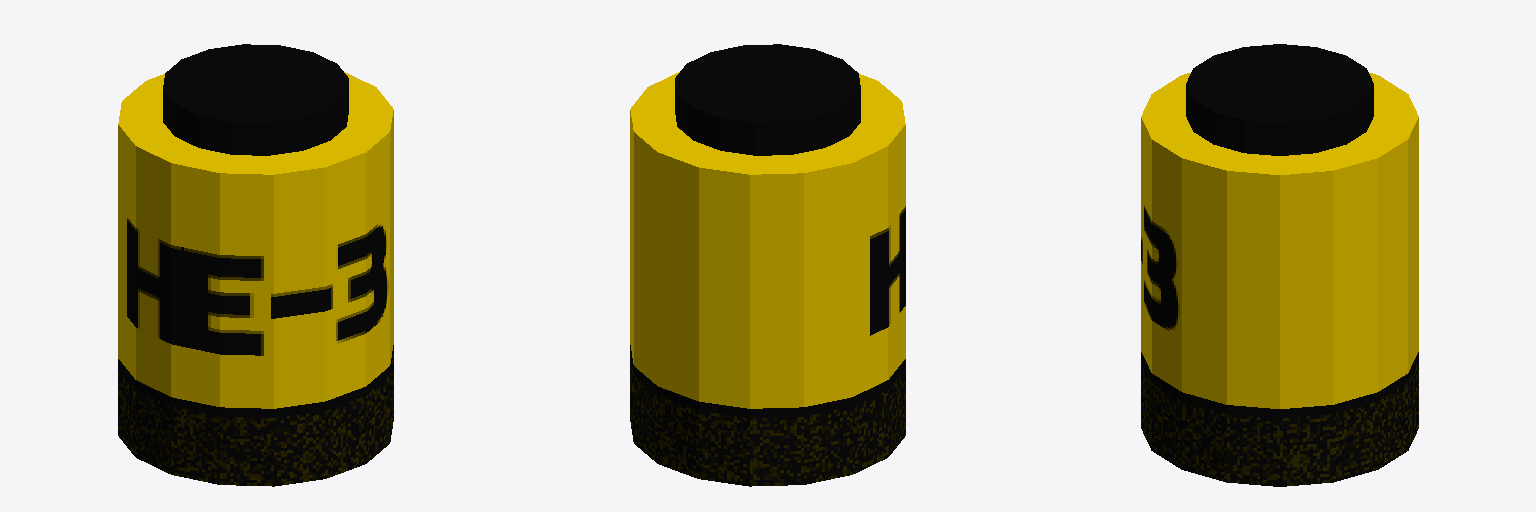
The picture shows the model from 3 angles: view 1: azimuth 30°, elevation 25°; view 2: azimuth 150°, elevation 25°; view 3: azimuth 270°, elevation 25°; orthographic projection.
Parts seen in each view (by area): view 1: deposit; view 2: deposit; view 3: deposit.
Part boxes in pixels (x1,y1,x2,y2): deposit: (118, 44, 393, 486); deposit: (630, 44, 905, 486); deposit: (1141, 44, 1418, 486).
Size of the model in its own units: 0.9 by 1.23 by 0.9.
2 materials, 1 textured.